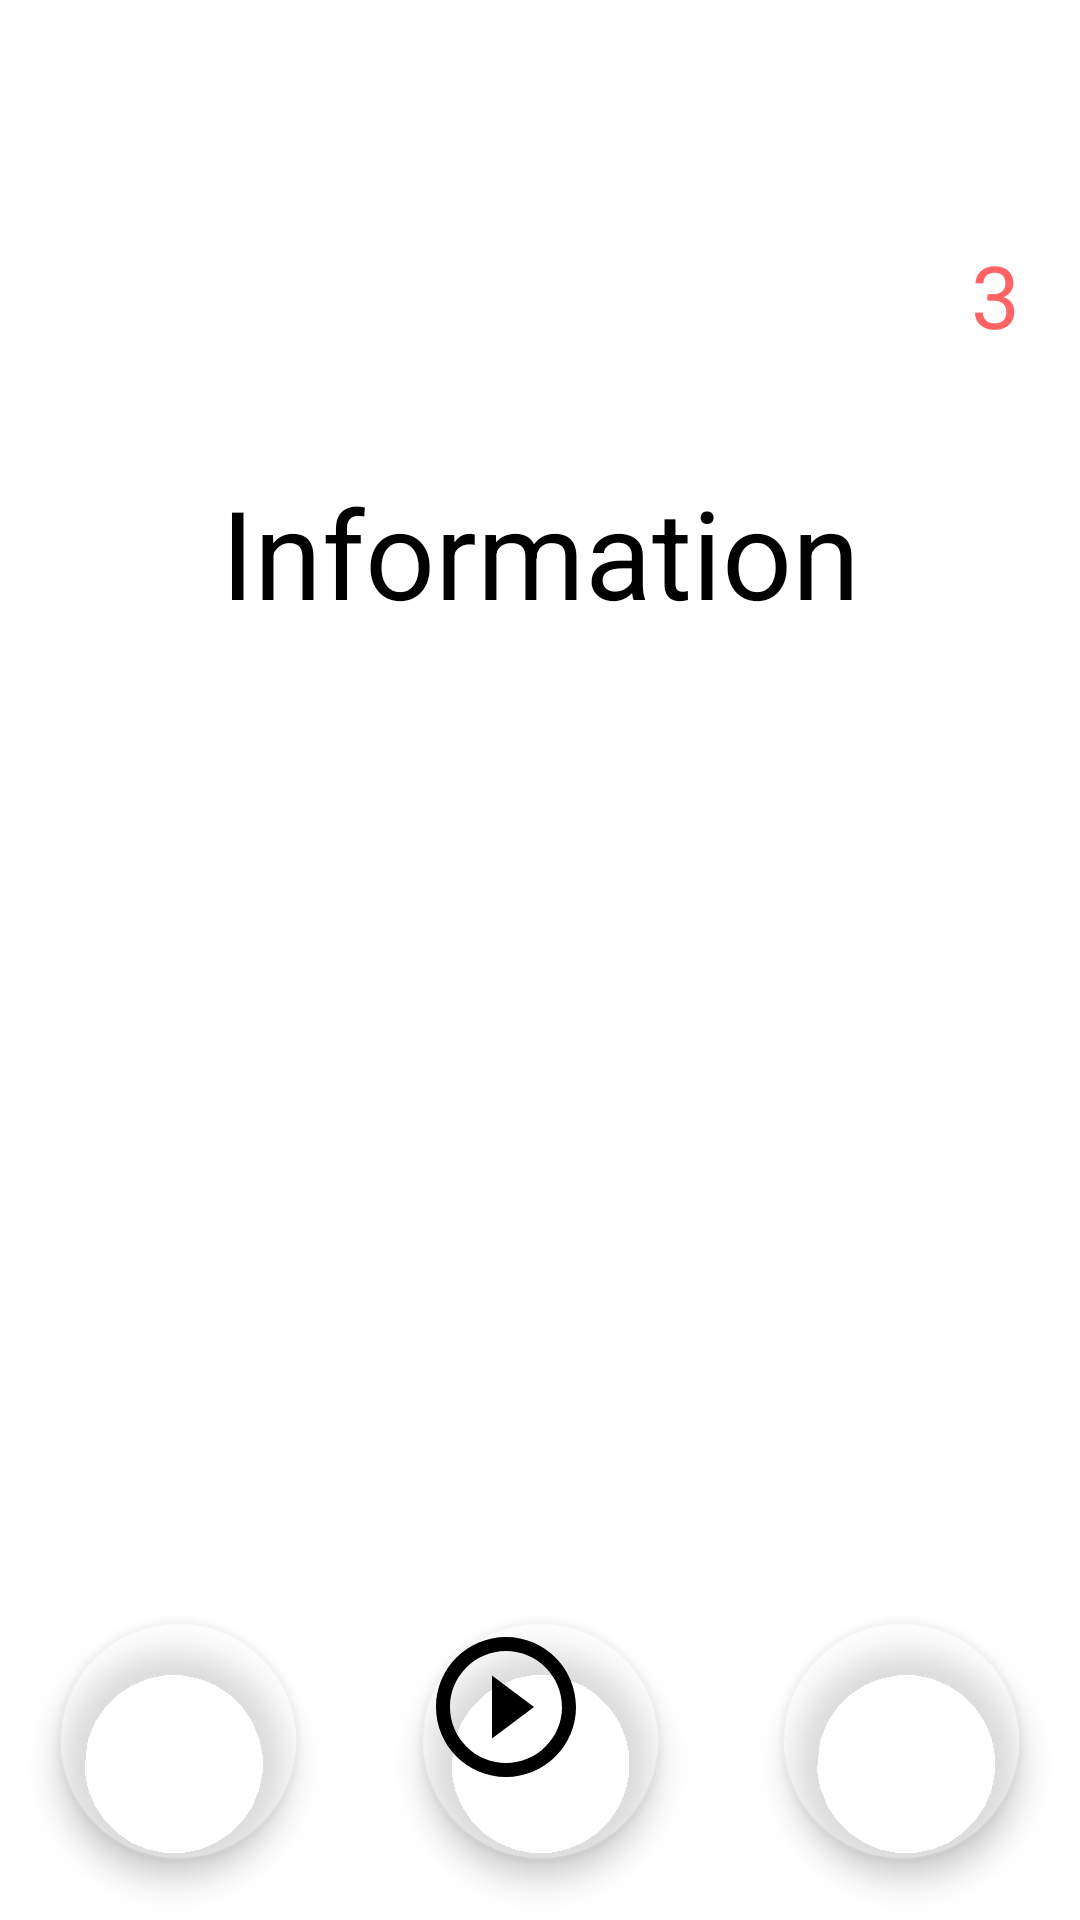

Named icons in this screenshot (1080×1920) and their bounding boxes, (left=x1, top=y1, right=x2, bottom=y2):
play: (left=422, top=1637, right=659, bottom=1860)
